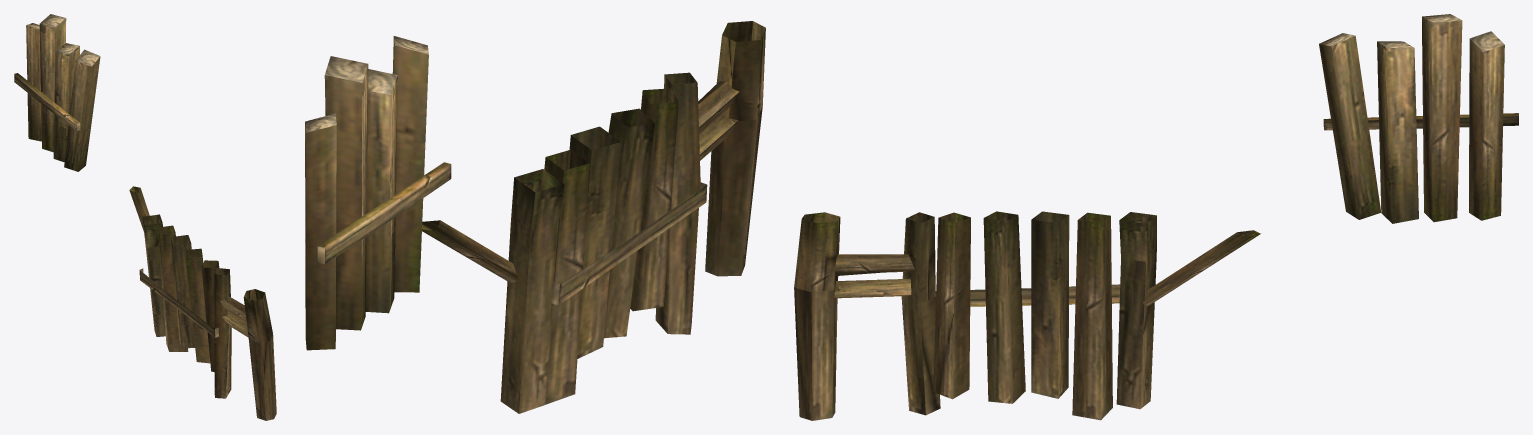
The model's file is JJS_QY_CaiDiWeiLan0.FBX.
3 views of the same model, side by side, from view 1: azimuth 30°, elevation 25°; view 2: azimuth 150°, elevation 25°; view 3: azimuth 270°, elevation 25° (orthographic). The views are drawn at different scales.
Parts seen in each view (by area): view 1: JJS_QY_CaiDiWeiLan01, JJS_QY_CaiDiWeiLan02; view 2: JJS_QY_CaiDiWeiLan01, JJS_QY_CaiDiWeiLan02; view 3: JJS_QY_CaiDiWeiLan01, JJS_QY_CaiDiWeiLan02.
Part boxes in pixels (x1,y1,x2,y2): JJS_QY_CaiDiWeiLan01: [129, 186, 276, 420]; JJS_QY_CaiDiWeiLan02: [14, 14, 100, 171]; JJS_QY_CaiDiWeiLan01: [422, 21, 765, 413]; JJS_QY_CaiDiWeiLan02: [305, 36, 451, 350]; JJS_QY_CaiDiWeiLan01: [794, 211, 1260, 420]; JJS_QY_CaiDiWeiLan02: [1319, 14, 1518, 223].
Size of the model in its own units: 35.75 by 218 by 361.
